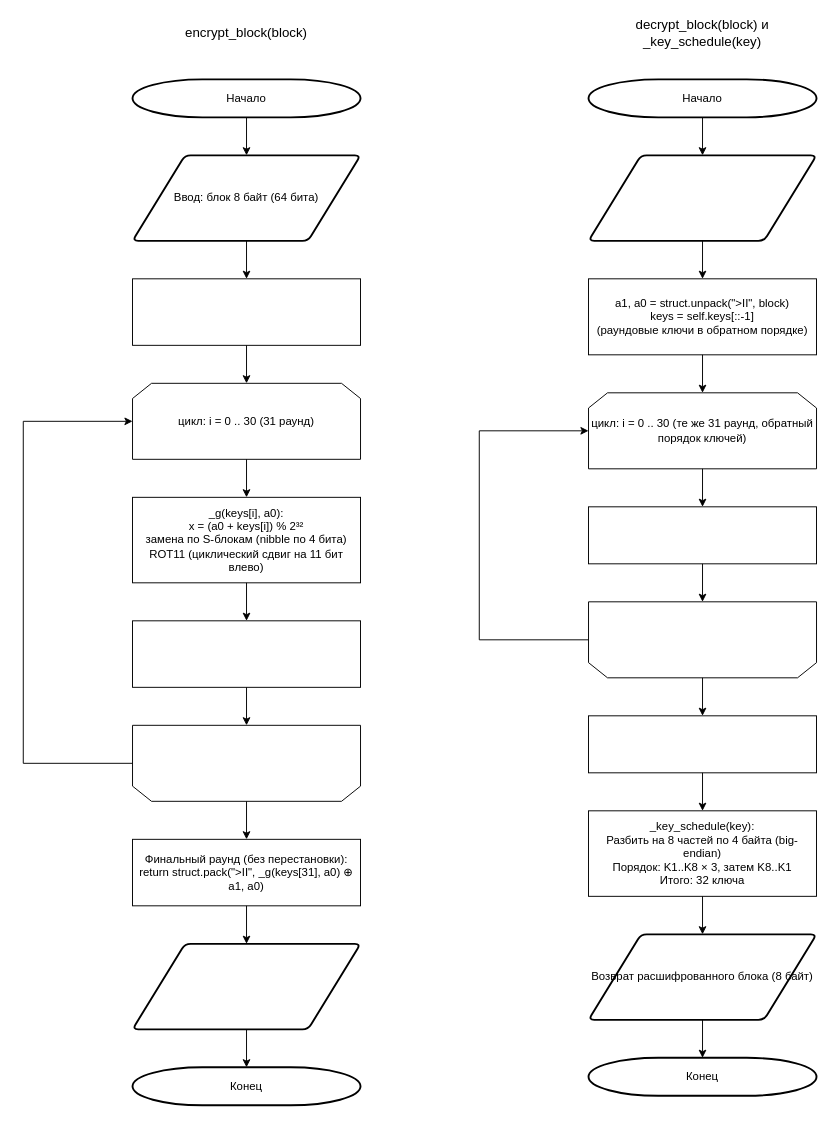
Image size: 834x1122. Some labels were removed from this diagram. The shapes that lost their labels are listed below. From the top down, each one's centre as x and y in pixels, then its label:
point (702, 197): Ввод: зашифрованный блок 8 байт
point (246, 311): a1, a0 = struct.unpack(">II", block) (левая и правая половины 32 бита)
point (702, 535): a1, a0 = a0, _g(keys[i], a0) ⊕ a1
point (246, 653): a1, a0 = a0, _g(keys[i], a0) ⊕ a1 (перестановка половин по Фейстелю)
point (702, 744): Финальный: struct.pack(">II", _g(keys[31], a0) ⊕ a1, a0)
point (246, 986): Возврат зашифрованного блока (8 байт)
